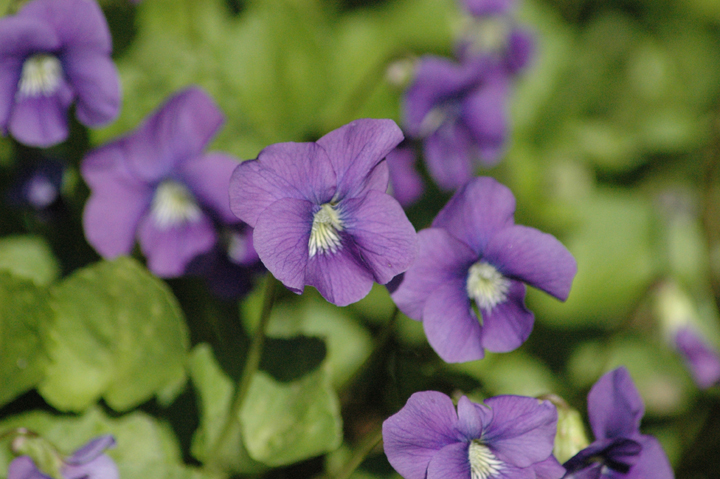violet: (218, 106, 409, 324), (393, 154, 574, 362), (379, 380, 568, 479)
